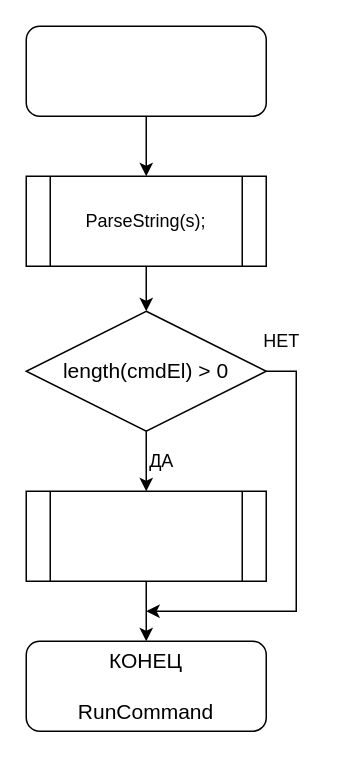
Some shapes in this 338 by 758 pixel diagram are drawn without their labels. Each missing label, with the centre of its shape:
Action(cmdEl[0]);: (145,535)
RunCommand НАЧАЛО: (145,70)
